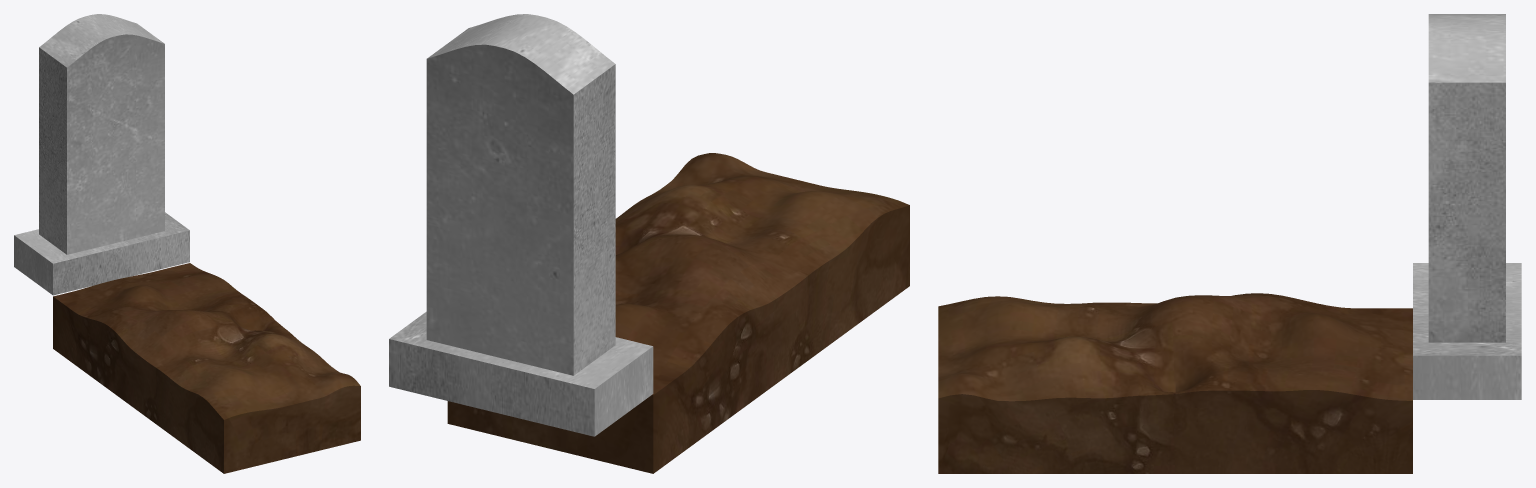
File: tombstone.fbx
3 renders of one model, left to right at view 1: azimuth 30°, elevation 25°; view 2: azimuth 150°, elevation 25°; view 3: azimuth 270°, elevation 25°, orthographic. The views are drawn at different scales.
Parts seen in each view (by area): view 1: Cube; view 2: Cube; view 3: Cube.
Part boxes in pixels (x1,y1,x2,y2): Cube: (14,14,360,473); Cube: (389,14,909,473); Cube: (938,14,1521,473).
Bounding box in the file's own units: 200 × 408 × 531.
Materials: 2 (2 with a texture image).
